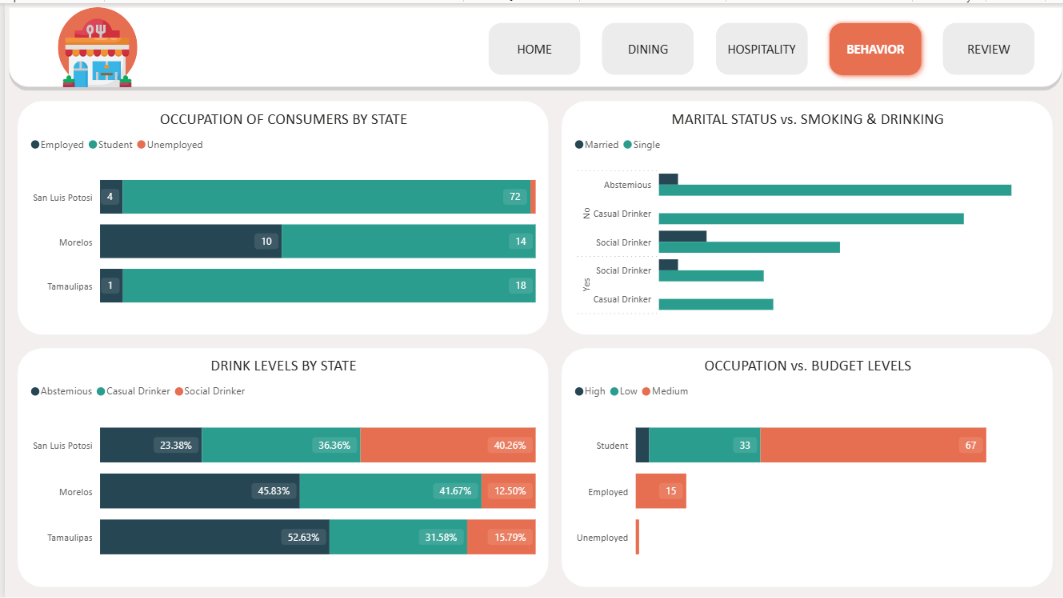

Layout of this report page (visuals, bound fields, positions):
{"tool":"powerbi","page":{"name":"BEHAVIOR","canvas":[1280,720],"ordinal":3},"visuals":[{"type":"hundredPercentStackedBarChart","title":"OCCUPATION OF CONSUMERS BY STATE","fields":{"Category":["consumers.State"],"Series":["consumers.Occupation"],"Y":["CountNonNull(consumers.Consumer_ID)"]},"box":[15.9,118.7,640.1,281.3],"z":0},{"type":"clusteredBarChart","title":"MARITAL STATUS vs. SMOKING & DRINKING","fields":{"Category":["consumers.Smoker","consumers.Drink_Level"],"Series":["consumers.Marital_Status"],"Y":["CountNonNull(consumers.Consumer_ID)"]},"box":[672,118.7,591.8,281.3],"z":1000},{"type":"hundredPercentStackedBarChart","title":"DRINK LEVELS BY STATE","fields":{"Category":["consumers.State"],"Series":["consumers.Drink_Level"],"Y":["CountNonNull(consumers.Consumer_ID)"]},"box":[16,416,640,288],"z":2000},{"type":"barChart","title":"OCCUPATION vs. BUDGET LEVELS","fields":{"Category":["consumers.Occupation"],"Series":["consumers.Budget"],"Y":["CountNonNull(consumers.Consumer_ID)"]},"box":[672,416,592,288],"z":3000},{"type":"shape","box":[0,0,1280.5,105.9],"z":4000},{"type":"pageNavigator","box":[576,15.5,677.6,79.1],"z":5000},{"type":"shape","box":[63.7,4.4,96.2,96.7],"z":6000},{"type":"image","box":[56,9.3,111.5,101.1],"z":7000}]}

Visuals, with their boxes in screenshot pixels (x1, y1, x2, y2), scaled from the page's 1280x720 canvas onto the 1063x598 screenshot:
"OCCUPATION OF CONSUMERS BY STATE" hundredPercentStackedBarChart: [left=13, top=99, right=545, bottom=332]
"MARITAL STATUS vs. SMOKING & DRINKING" clusteredBarChart: [left=558, top=99, right=1050, bottom=332]
"DRINK LEVELS BY STATE" hundredPercentStackedBarChart: [left=13, top=346, right=545, bottom=585]
"OCCUPATION vs. BUDGET LEVELS" barChart: [left=558, top=346, right=1050, bottom=585]
shape: [left=0, top=0, right=1062, bottom=88]
pageNavigator: [left=478, top=13, right=1041, bottom=79]
shape: [left=53, top=4, right=133, bottom=84]
image: [left=47, top=8, right=139, bottom=92]
